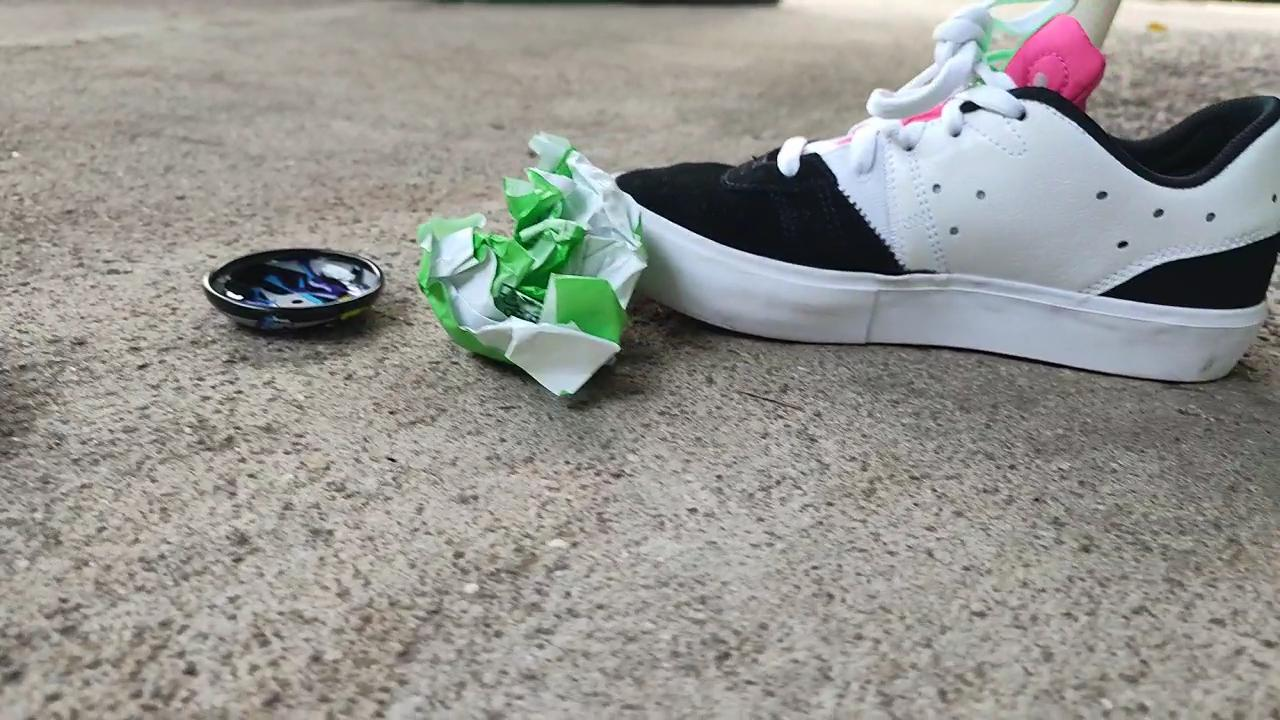Paper: (396, 112, 660, 418)
